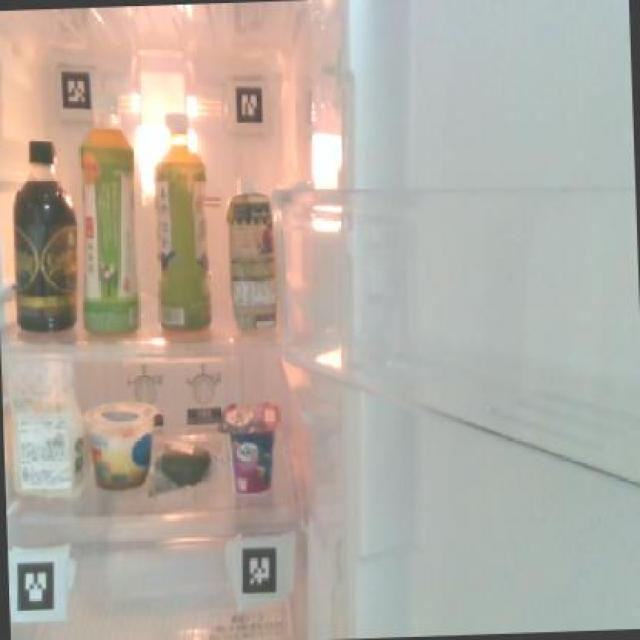coffee: (7, 134, 81, 338)
pudding: (83, 390, 152, 488)
rice_ball: (151, 430, 220, 495)
sandwich: (8, 353, 86, 504)
smoothie: (224, 171, 278, 334)
tea_a: (150, 113, 216, 335)
tea_i: (76, 116, 144, 336)
yogurt: (220, 400, 282, 498)
